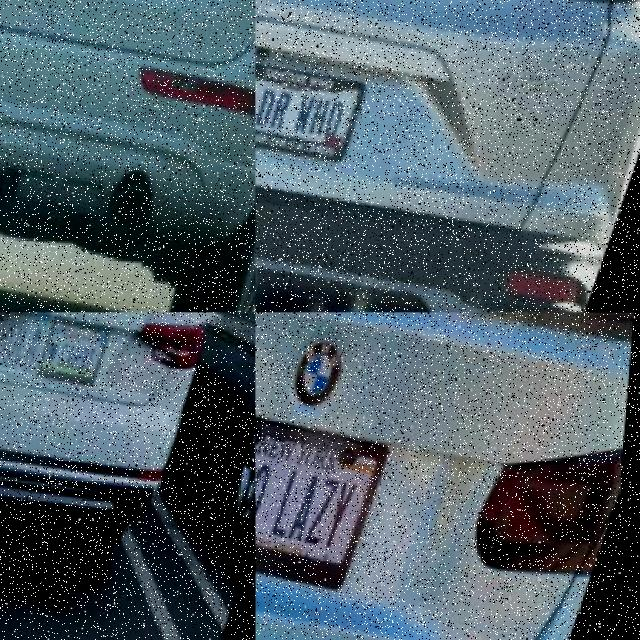licenseplate: (255, 420, 396, 596), (255, 65, 373, 166), (32, 0, 143, 49)
